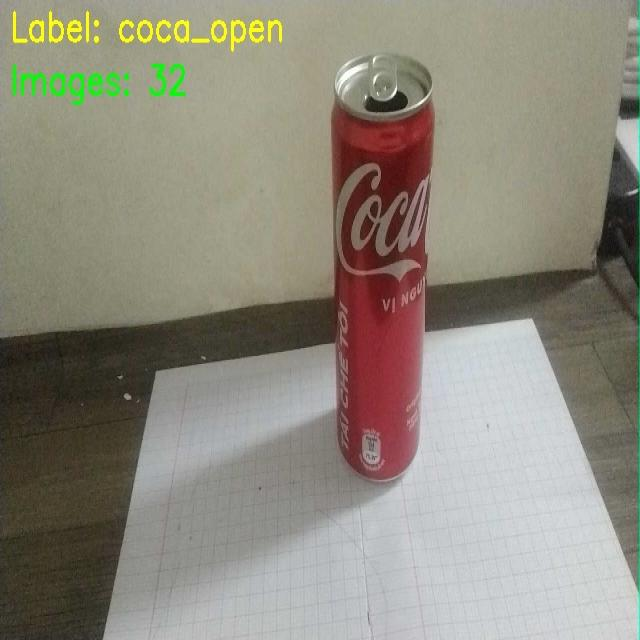Coca_open: (326, 52, 446, 475)
